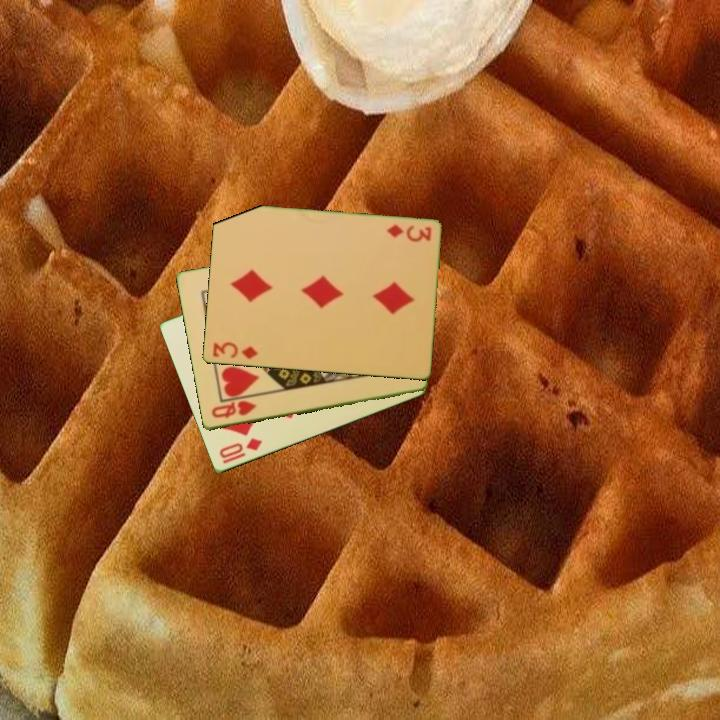10d: (215, 435, 265, 467)
3d: (209, 339, 261, 362), (383, 221, 434, 244)
Qh: (208, 397, 259, 421)
